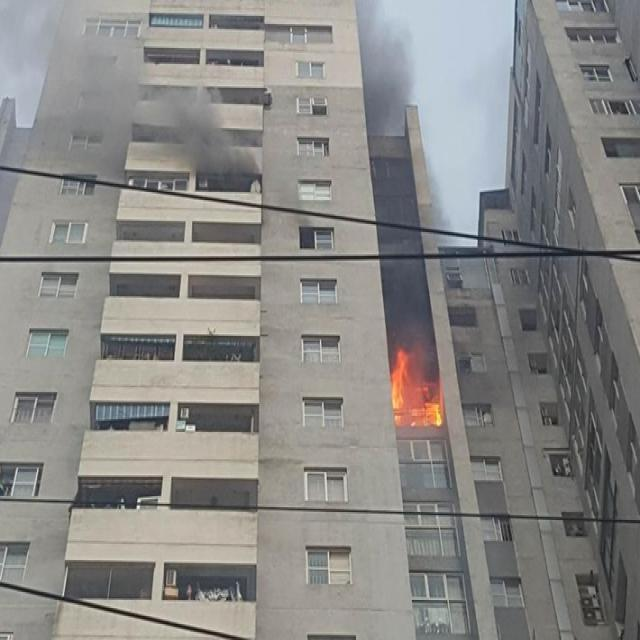Fire: (388, 344, 444, 434)
Smoke: (358, 0, 436, 339), (126, 74, 262, 194)
